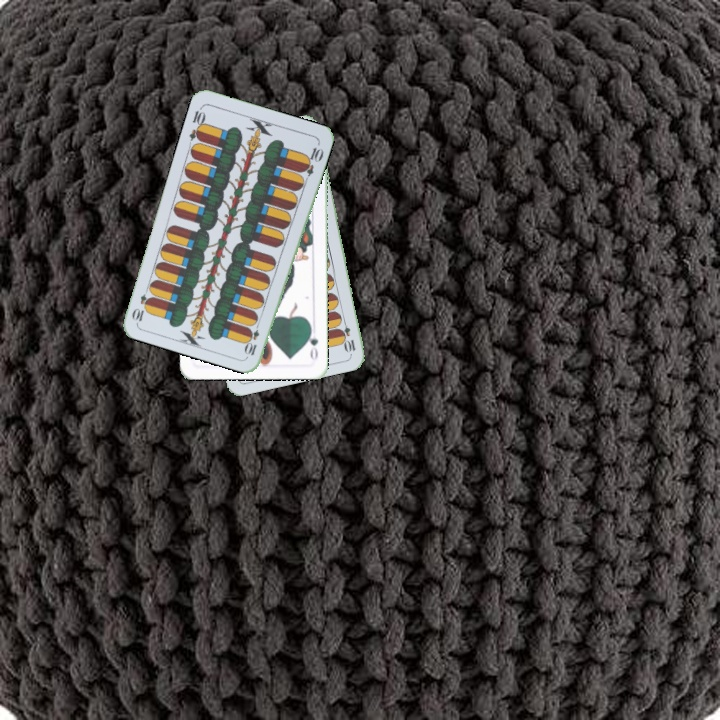E10: (185, 103, 208, 143), (337, 314, 359, 355), (242, 318, 262, 358)
GO: (304, 322, 321, 362)
